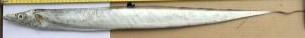fish: (4, 7, 304, 30)
